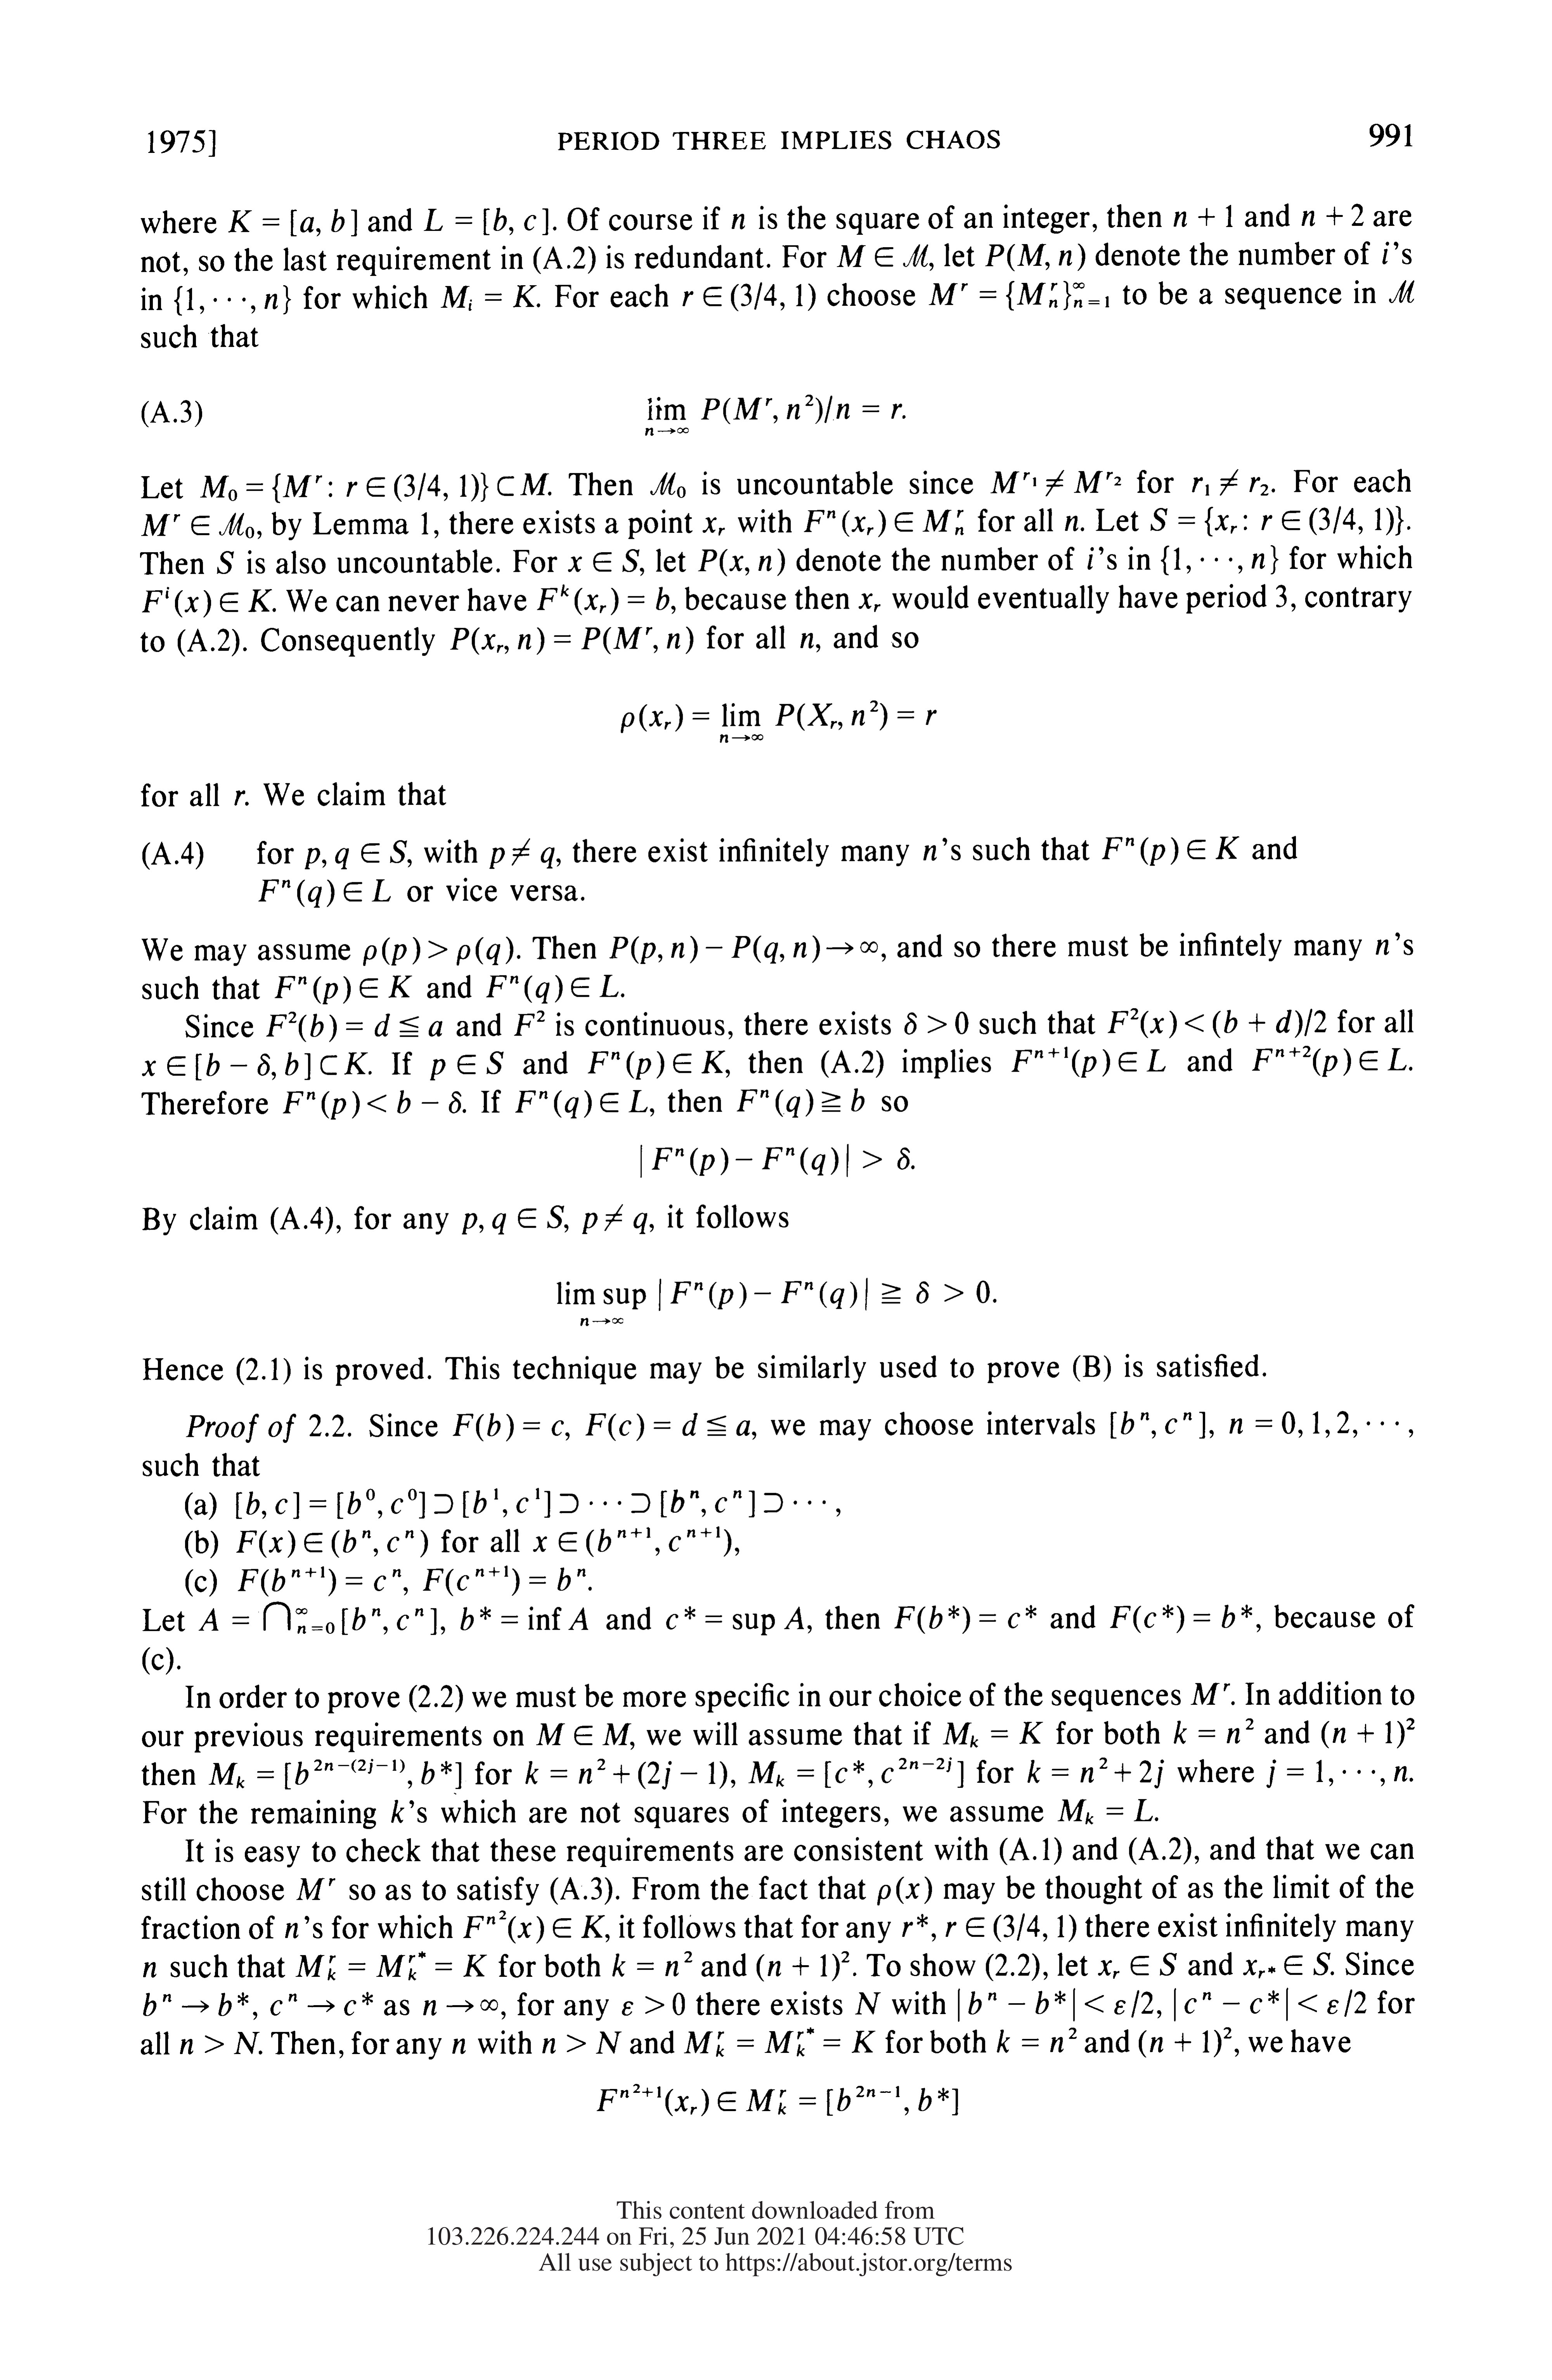maths: (557, 1278, 995, 1325), (236, 1488, 825, 1518), (621, 701, 936, 742), (597, 2083, 957, 2116), (199, 472, 551, 503), (645, 394, 905, 435), (640, 1145, 914, 1178), (199, 1601, 444, 1634), (1150, 507, 1403, 536), (208, 1759, 461, 1788), (609, 935, 877, 963), (449, 626, 694, 654), (959, 1988, 1162, 2021), (1108, 1008, 1327, 1037), (1174, 1988, 1366, 2021), (749, 1757, 962, 1787), (142, 1051, 368, 1079), (525, 1759, 727, 1788), (532, 1527, 730, 1556), (461, 1204, 647, 1233), (283, 1089, 465, 1119), (236, 1530, 428, 1558), (295, 1952, 487, 1979), (683, 2028, 876, 2056), (929, 281, 1110, 311), (265, 1011, 442, 1041), (238, 1566, 408, 1596), (423, 1566, 591, 1596), (1011, 1046, 1165, 1077), (1252, 1046, 1412, 1076), (463, 1910, 605, 1943), (1229, 1410, 1398, 1438), (586, 1414, 749, 1440), (1028, 1757, 1164, 1788), (588, 1049, 730, 1079), (362, 937, 513, 964), (805, 510, 964, 536), (895, 1605, 1035, 1634), (142, 586, 272, 618), (274, 975, 411, 1004), (666, 1606, 803, 1636), (1103, 836, 1238, 866), (1110, 1605, 1252, 1632), (538, 585, 669, 614), (486, 975, 624, 1003), (737, 1088, 864, 1117), (681, 283, 815, 311), (173, 284, 291, 316), (258, 879, 390, 907), (515, 1089, 647, 1117), (945, 1913, 1077, 1941), (229, 208, 357, 236), (990, 470, 1120, 496), (423, 208, 548, 234), (453, 1414, 569, 1442), (305, 840, 411, 869), (461, 1606, 588, 1631), (140, 512, 253, 538), (144, 1993, 257, 2019), (1321, 1717, 1415, 1749), (1110, 1410, 1214, 1438), (985, 243, 1086, 271), (756, 1952, 850, 1981), (536, 1723, 635, 1750), (1139, 2028, 1231, 2057), (440, 284, 539, 311), (271, 1991, 373, 2016), (1058, 1799, 1158, 1823), (699, 548, 786, 576), (943, 1723, 1042, 1747), (567, 548, 643, 576), (1243, 1953, 1330, 1978), (838, 245, 928, 267), (1098, 1953, 1176, 1979), (430, 1051, 503, 1079), (489, 838, 553, 869), (1191, 468, 1268, 494), (1174, 1719, 1254, 1743), (612, 1952, 692, 1976), (997, 2028, 1077, 2052), (180, 2031, 262, 2054), (543, 2031, 621, 2054), (1266, 1759, 1323, 1788), (877, 1877, 931, 1905), (905, 1011, 968, 1034), (623, 1993, 685, 2016), (1302, 203, 1363, 226), (1174, 205, 1233, 227), (423, 2000, 498, 2016), (902, 1913, 936, 1941), (650, 472, 685, 498), (1191, 1683, 1229, 1705), (513, 1010, 545, 1036), (297, 1879, 335, 1899), (1252, 545, 1278, 574), (1389, 279, 1413, 302), (855, 1993, 881, 2014), (858, 593, 881, 612), (702, 517, 725, 534), (217, 552, 234, 574), (801, 633, 820, 652), (390, 1801, 404, 1823), (1394, 1766, 1413, 1782), (1065, 515, 1079, 531), (234, 789, 248, 805), (1162, 545, 1169, 574), (1375, 940, 1389, 954), (284, 1924, 298, 1938), (732, 213, 744, 229), (924, 845, 936, 860), (144, 1962, 156, 1978), (453, 2038, 465, 2054), (1382, 241, 1389, 264), (1087, 546, 1094, 569)
